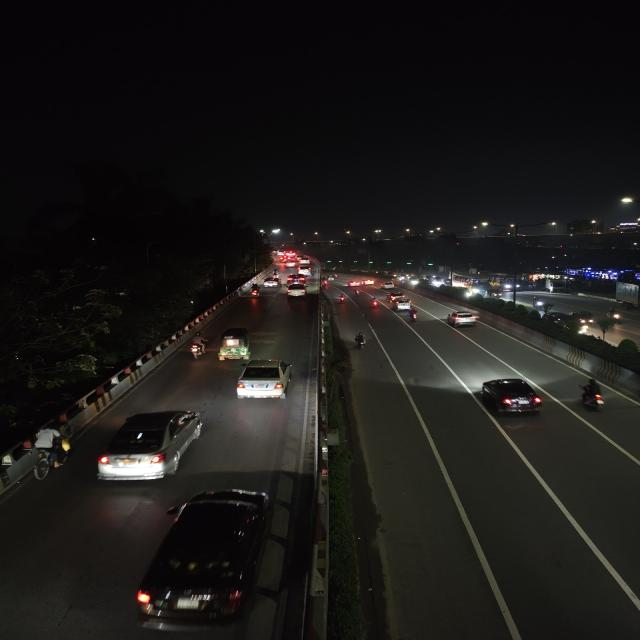bicycle: (32, 429, 78, 484)
bus: (452, 273, 495, 293), (491, 275, 529, 292)
car: (133, 484, 284, 632), (93, 404, 208, 487), (478, 375, 546, 419), (233, 358, 296, 402), (445, 308, 480, 328), (285, 284, 308, 298), (394, 297, 414, 311), (384, 291, 407, 303), (286, 274, 303, 286), (264, 277, 280, 288), (376, 282, 396, 290), (298, 264, 311, 274), (359, 278, 374, 286), (348, 279, 361, 287)
cng: (216, 327, 252, 362), (577, 309, 595, 332)
motorcycle: (575, 377, 609, 414), (185, 334, 210, 362), (351, 331, 371, 351), (605, 306, 626, 324), (250, 283, 264, 299), (368, 296, 382, 310), (408, 308, 420, 322), (337, 292, 348, 304), (353, 288, 362, 298), (320, 279, 330, 287)
truck: (542, 278, 566, 294)
